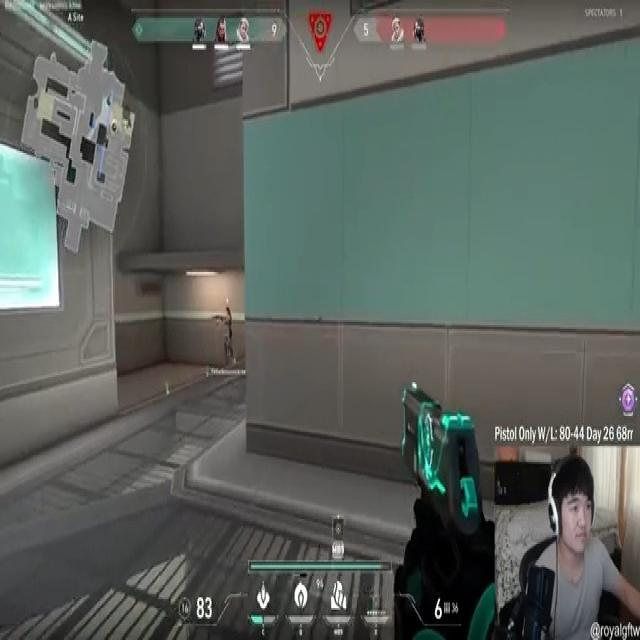ally: (212, 304, 240, 376)
